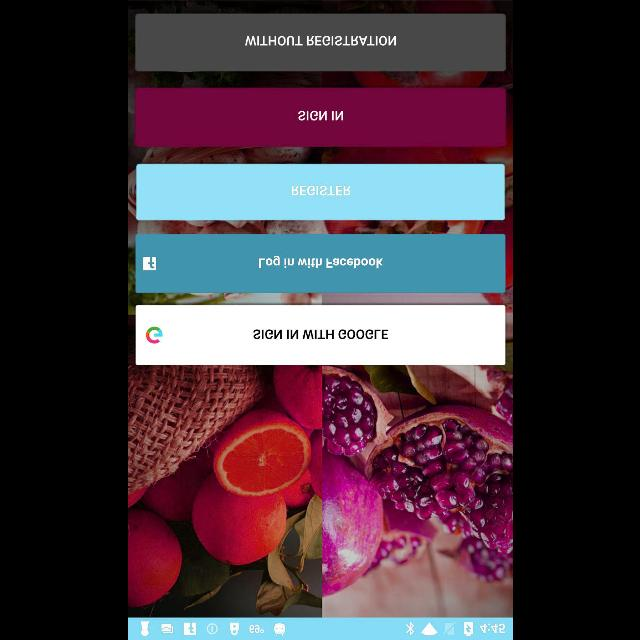backgroundimage: (128, 0, 512, 618)
textbutton: (135, 305, 505, 365), (134, 88, 506, 146), (135, 234, 505, 292), (135, 13, 505, 71), (136, 163, 504, 220)
uppertaskbar: (128, 617, 512, 639)
